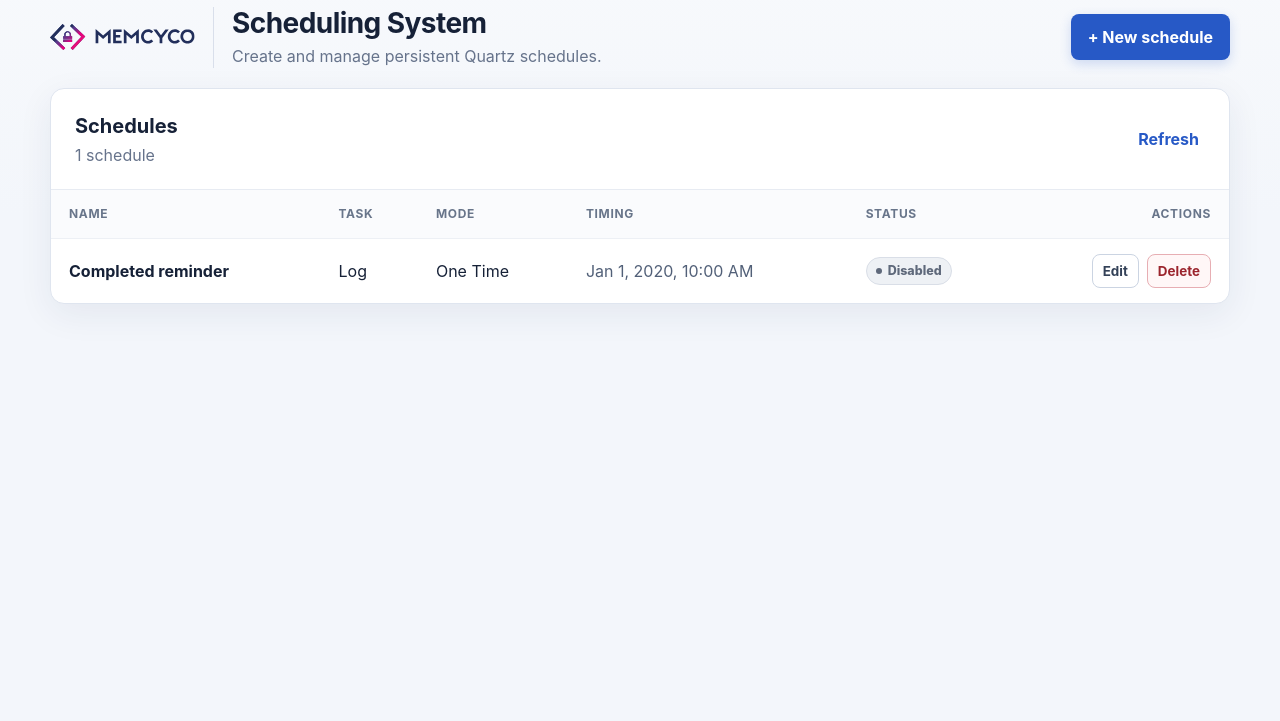
Test: scheduling dashboard › blocks re-enabling a completed one-time schedule until its time is in the future
Expected: the text "Completed reminder" is shown, [69, 261, 229, 281]
Click the button "Edit" at (1115, 271), box [1092, 254, 1139, 288]
(page scrolled)
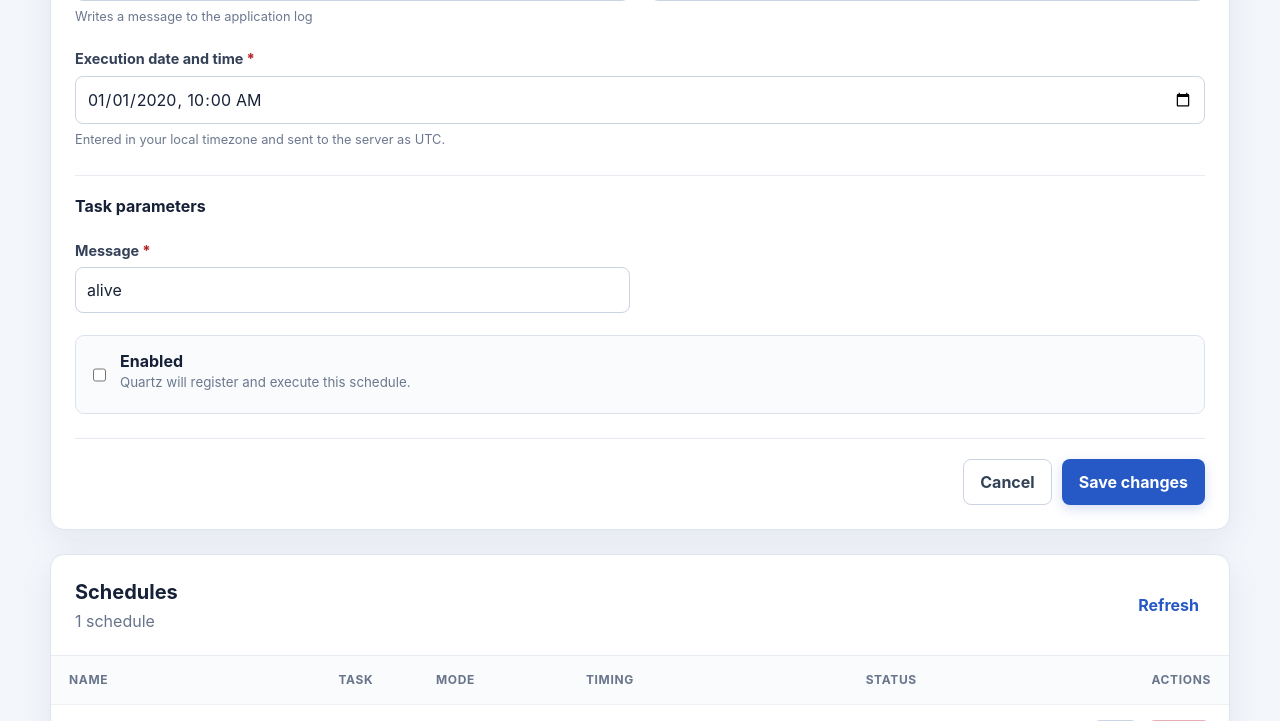
Click the checkbox labelled "Enabled Quartz will register and execute this schedule." at (100, 375), box [93, 353, 106, 397]
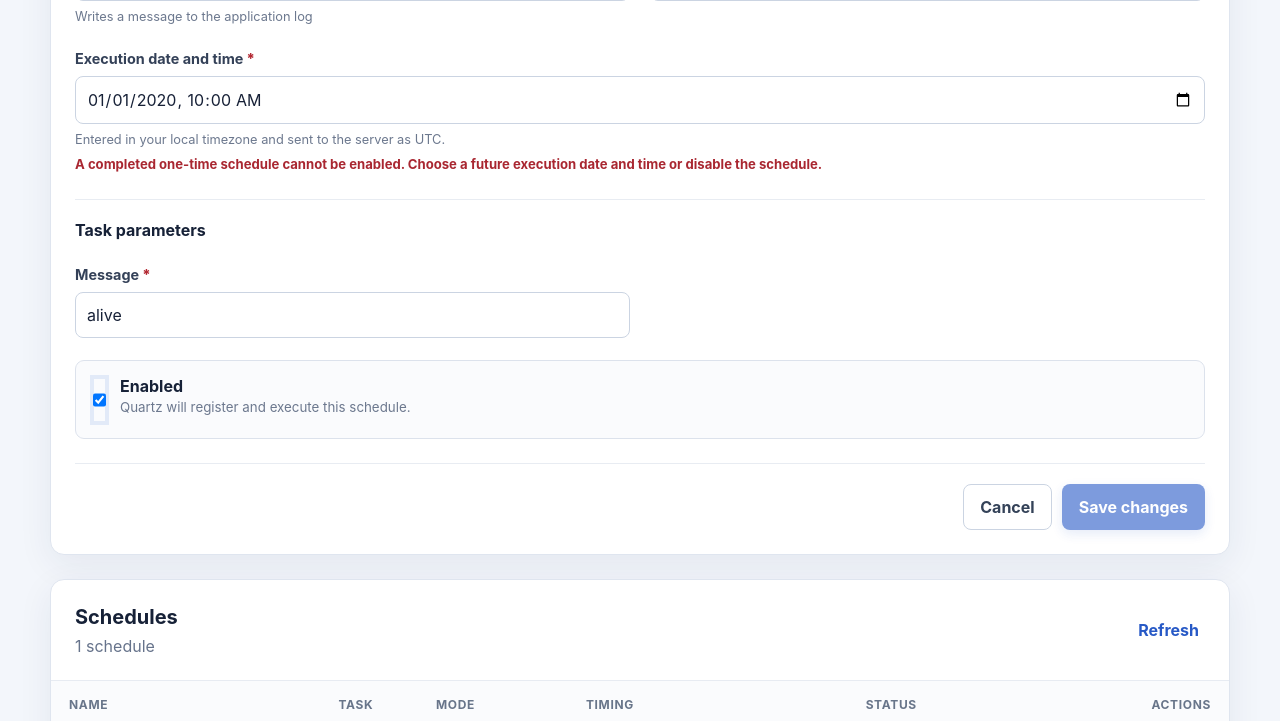
Expected: the button "Save changes" is disabled, [1062, 484, 1205, 530]
Expected: the text "completed one-time schedule cannot be enabled" is shown, [75, 156, 822, 172]
Replace the text in the field labelled "Execution date and time" with "2099-01-01T10:00" at (640, 100), box [75, 76, 1205, 124]
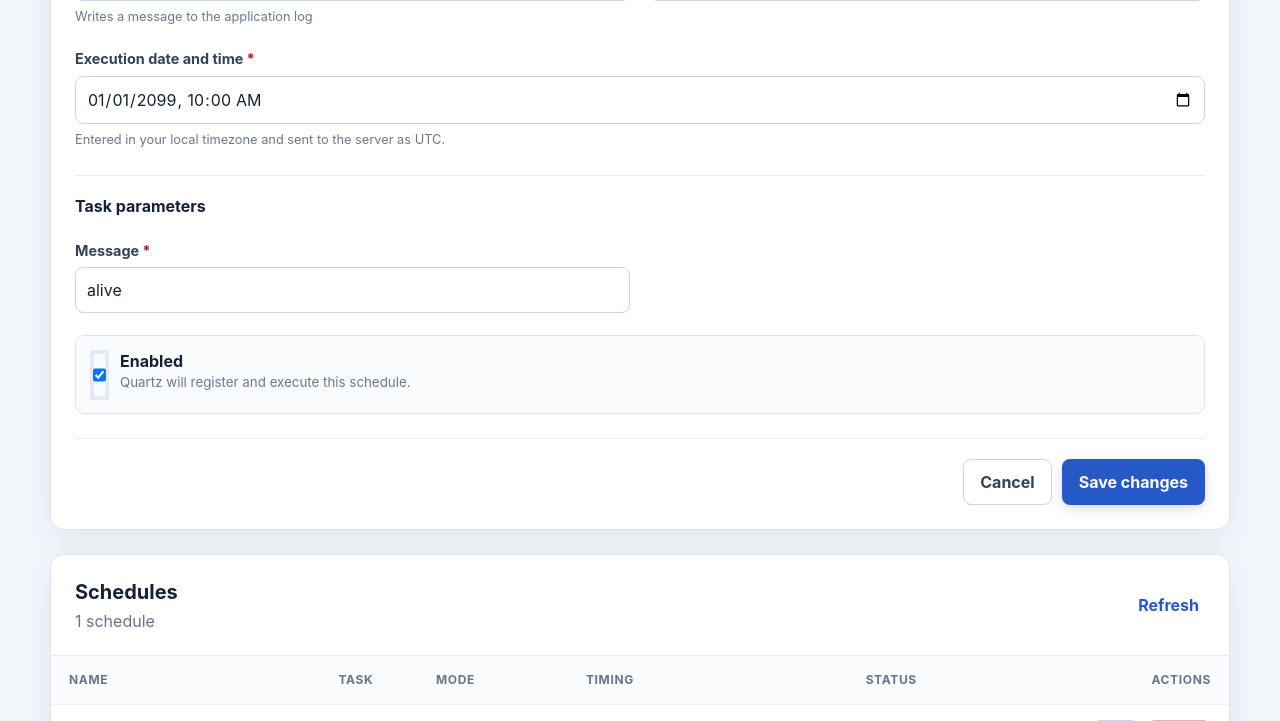
Expected: the text "completed one-time schedule cannot be enabled" is gone
Expected: the button "Save changes" is enabled, [1062, 459, 1205, 505]
